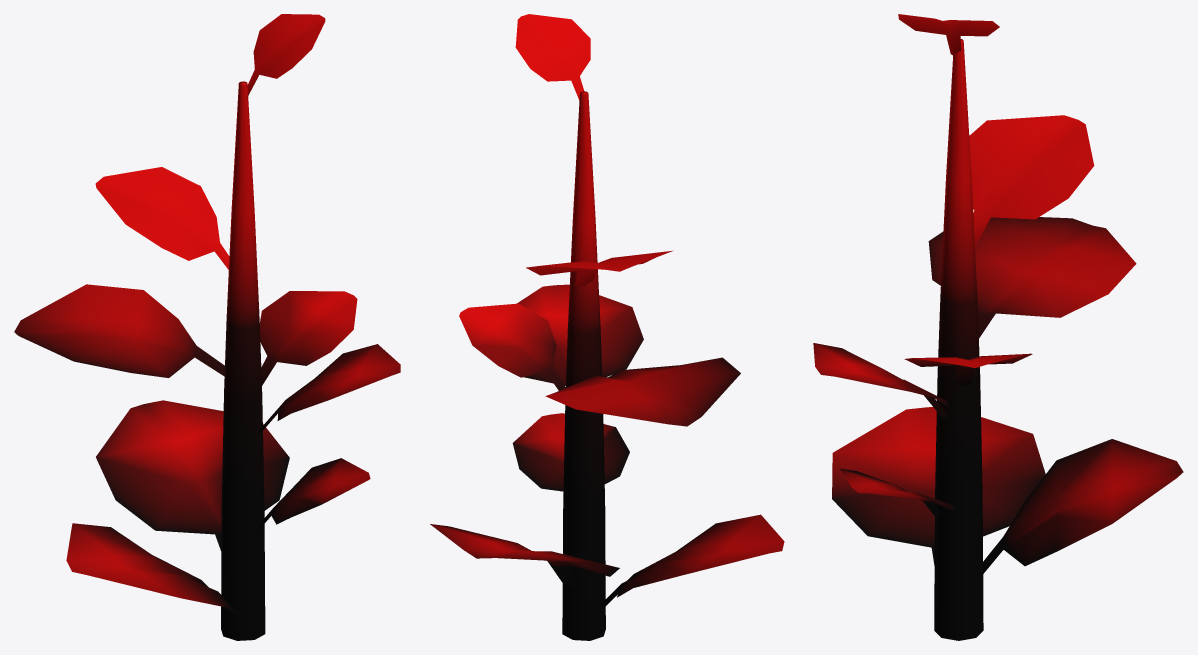
The model's file is SM_Branch_01_LOD0.fbx.
The picture shows the model from 3 angles, left to right: view 1: azimuth 30°, elevation 25°; view 2: azimuth 150°, elevation 25°; view 3: azimuth 270°, elevation 25°; orthographic projection. The views are drawn at different scales.
Parts seen in each view (by area): view 1: Branch_01_LOD0; view 2: Branch_01_LOD0; view 3: Branch_01_LOD0.
Boxes of the visible parts, x1=… form: Branch_01_LOD0: x1=14, y1=14, x2=400, y2=640; Branch_01_LOD0: x1=430, y1=14, x2=784, y2=640; Branch_01_LOD0: x1=813, y1=14, x2=1183, y2=640.
Size of the model in its own units: 77.09 by 146 by 75.38.
